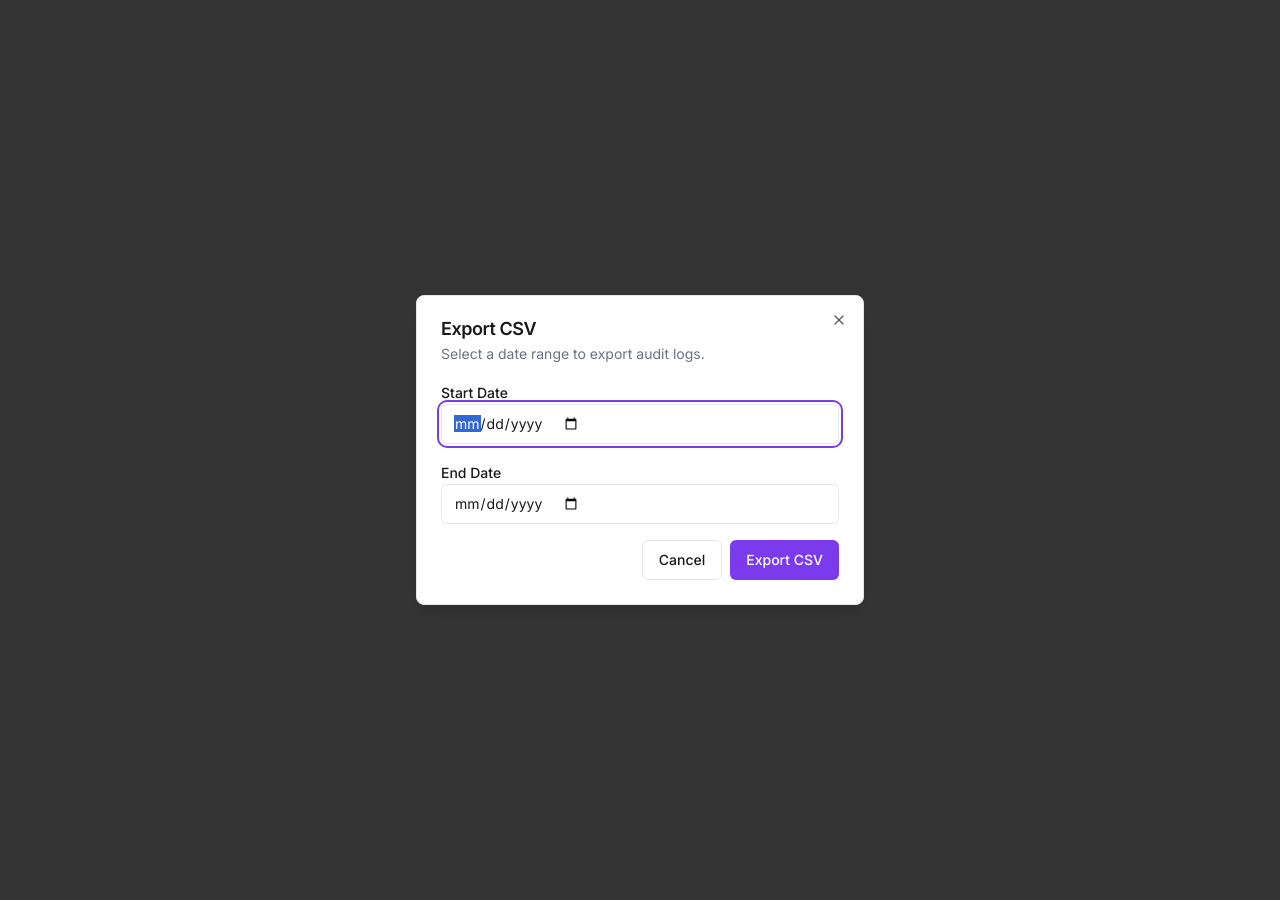
Test: AuditLogExportDialog › rejects a range longer than 365 days
Type "2026-01-01" into the date field with test id "export-date-from". click: (640, 424)
box: x1=441 y1=404 x2=839 y2=444
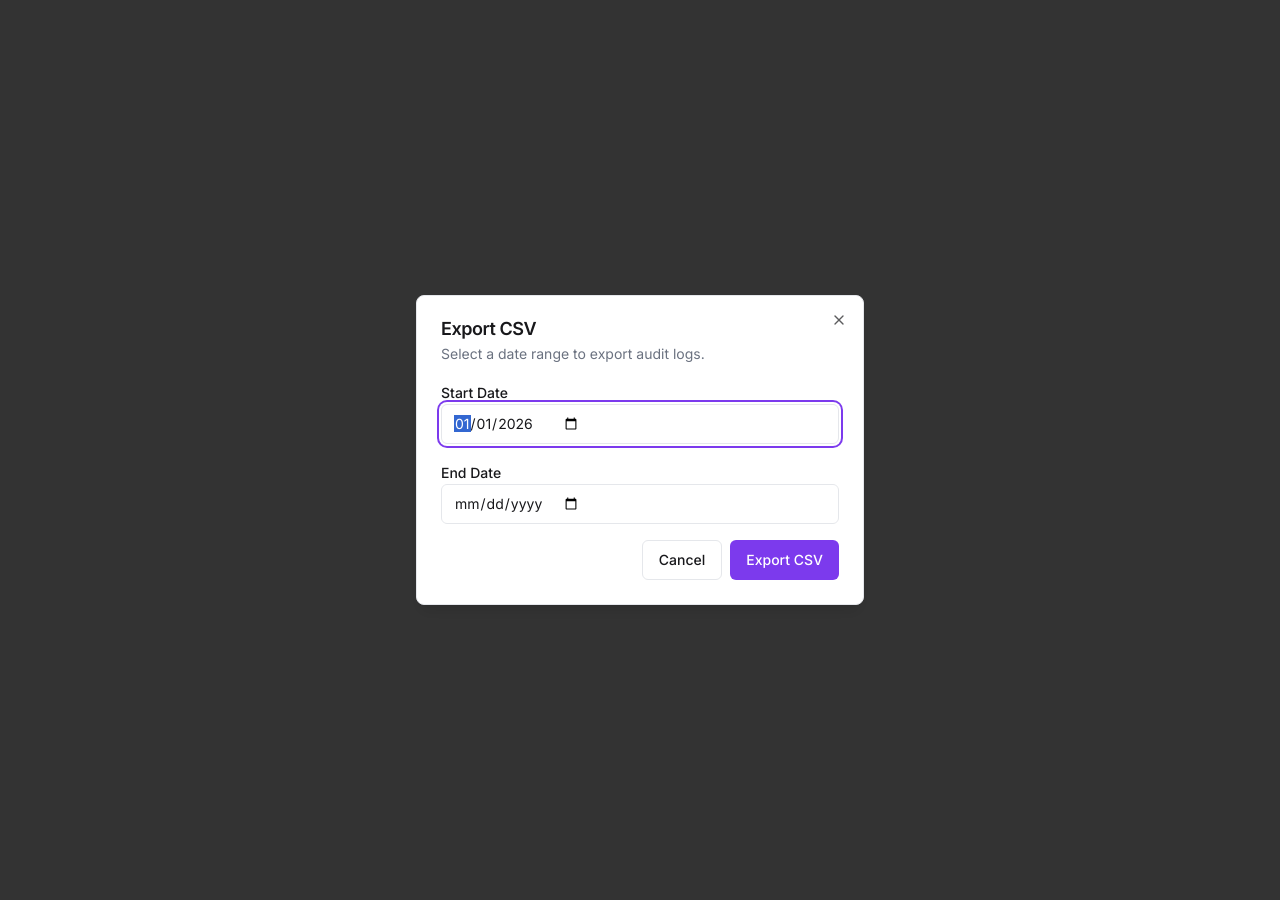
Type "2027-01-01" into the date field with test id "export-date-to". click: (640, 504)
box: x1=441 y1=484 x2=839 y2=524
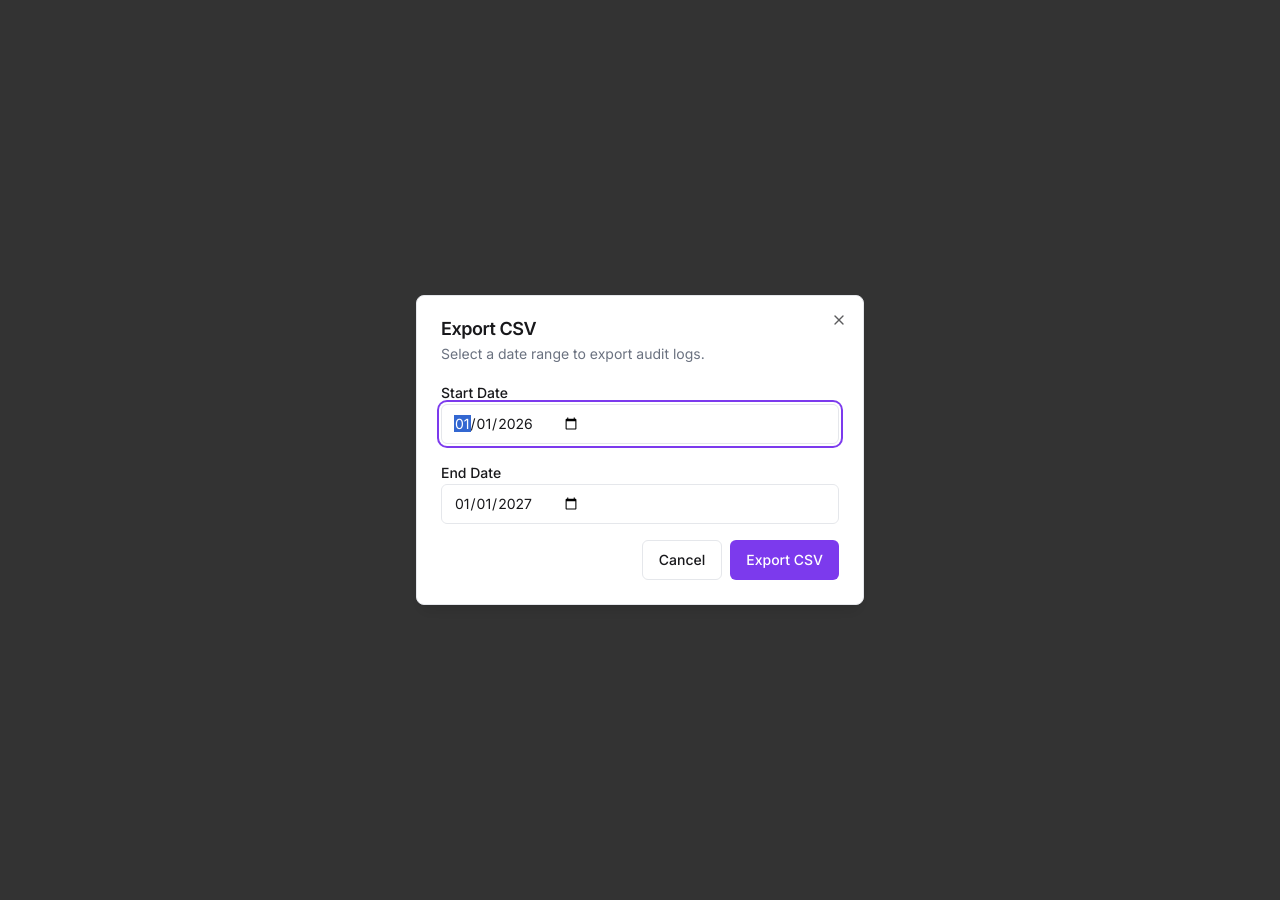
Click the button with test id "export-confirm". click: (785, 560)
box: x1=730 y1=540 x2=839 y2=580
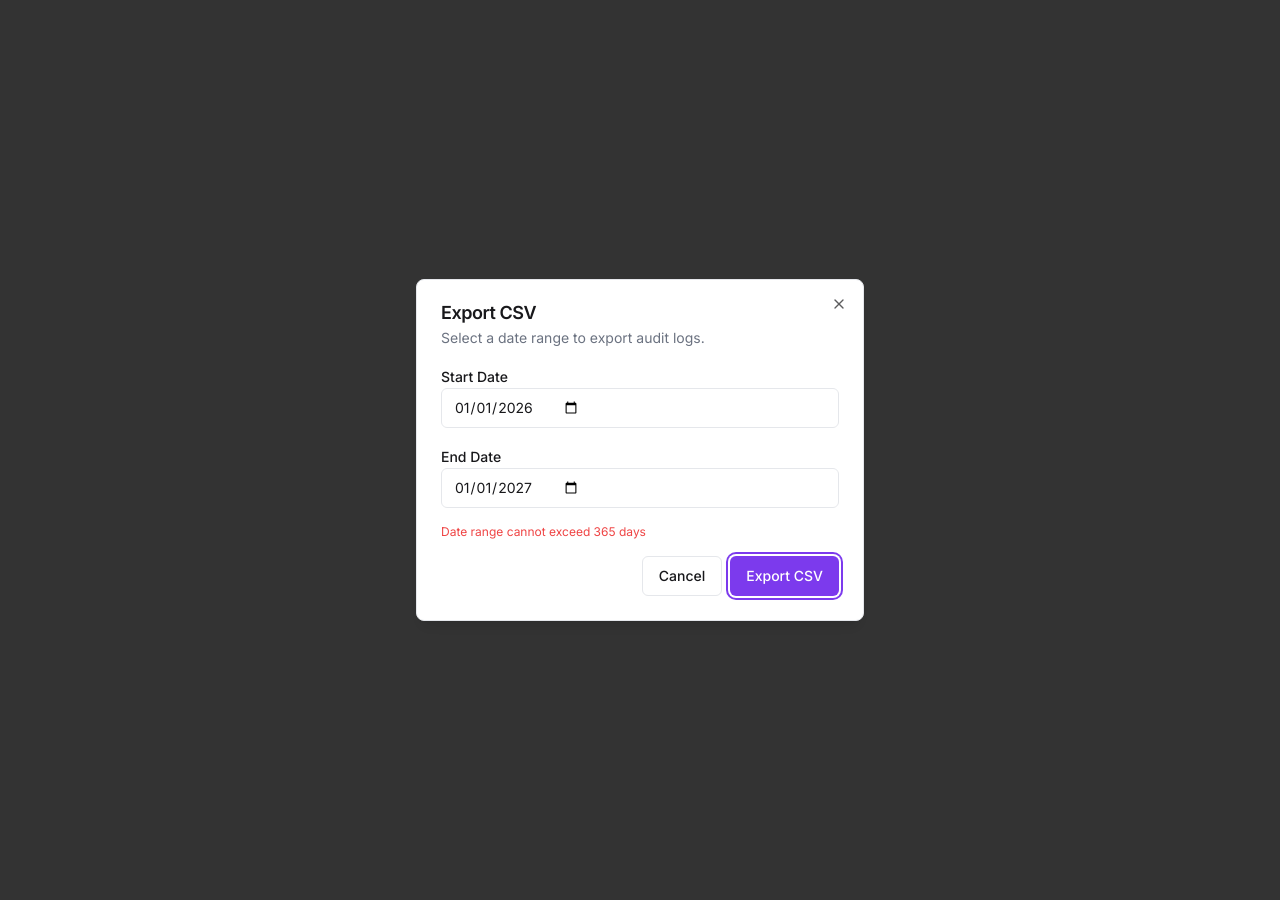
Expected: the message with test id "export-range-error" shows "cannot exceed 365 days", x1=441 y1=524 x2=646 y2=539
